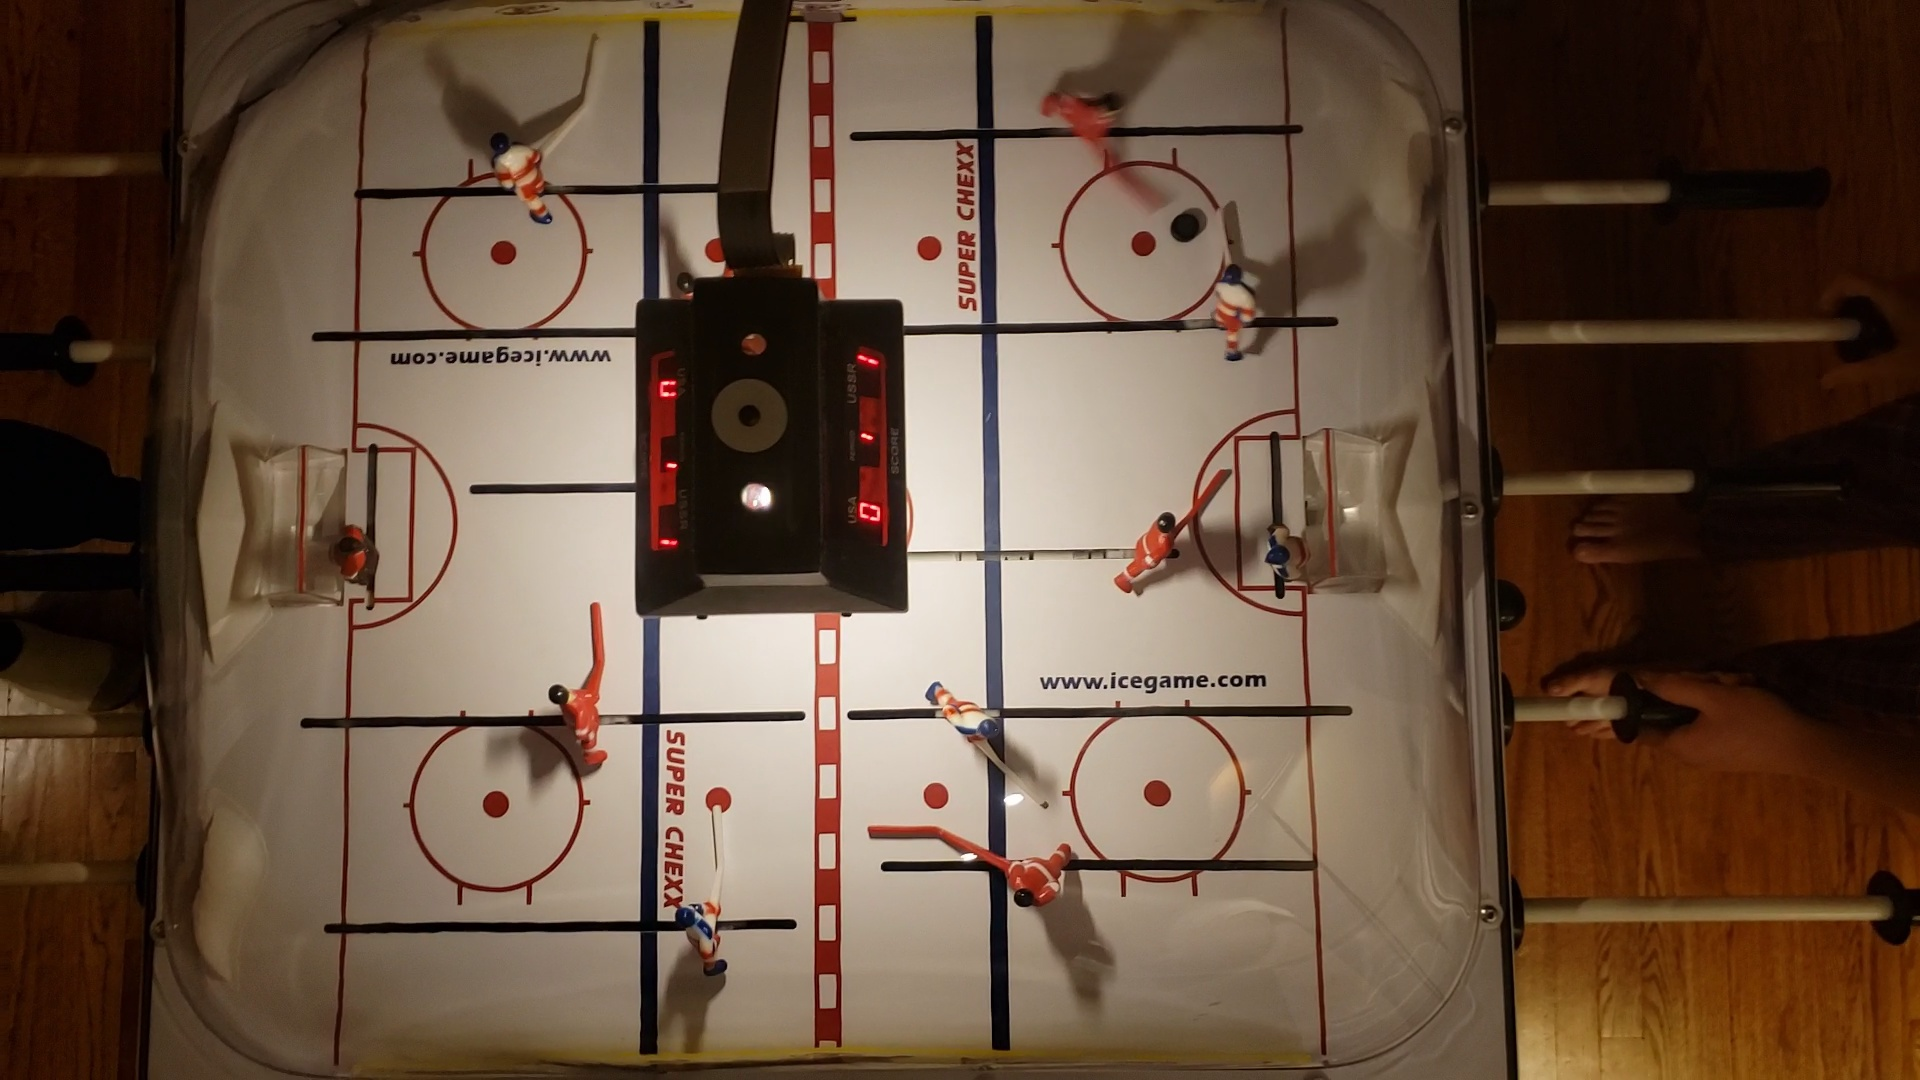puck: (1170, 214, 1201, 243)
